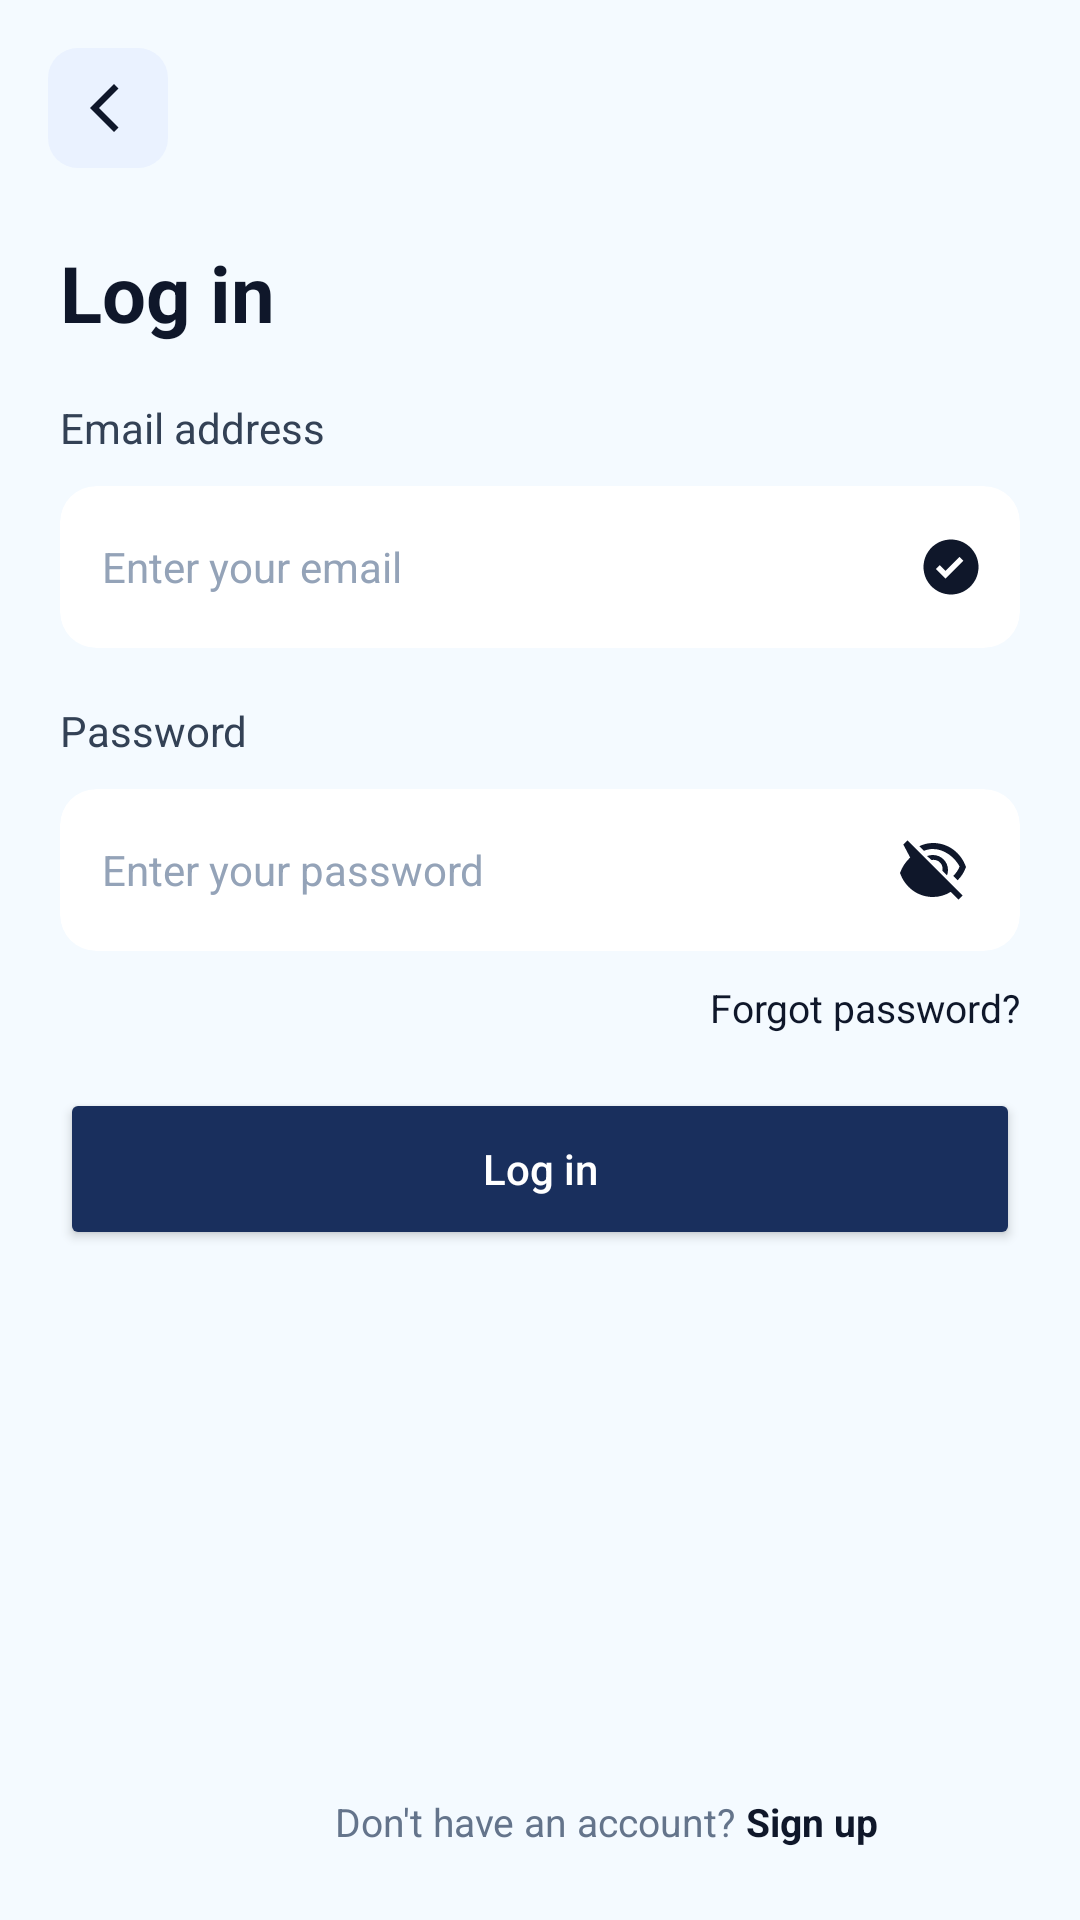

Named icons in this screenshot (1080w x 1920h) and their centers, (x=x, y=y):
Back: (x=108, y=108)
Email ok: (x=951, y=567)
Show/Hide password: (x=933, y=870)
